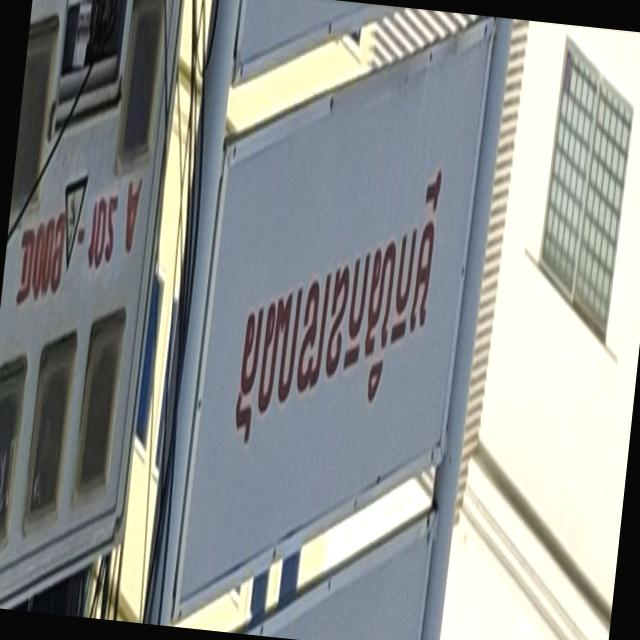Yolov11_80vkh: (202, 73, 468, 497)
